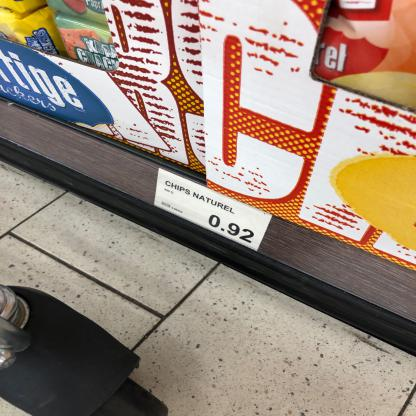prtg: (154, 169, 274, 253)
